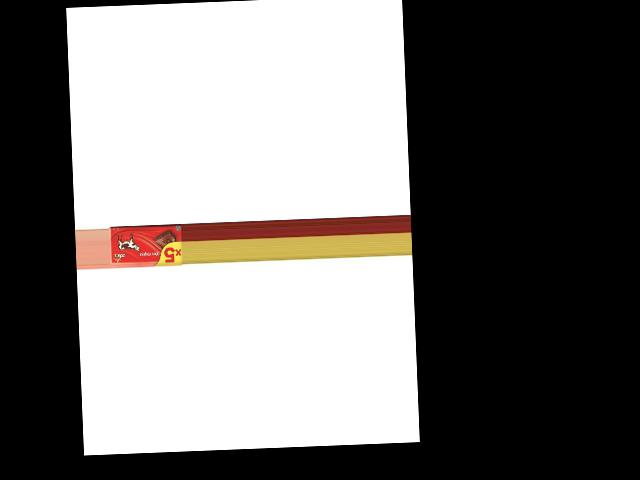chocolate: (107, 224, 182, 269)
